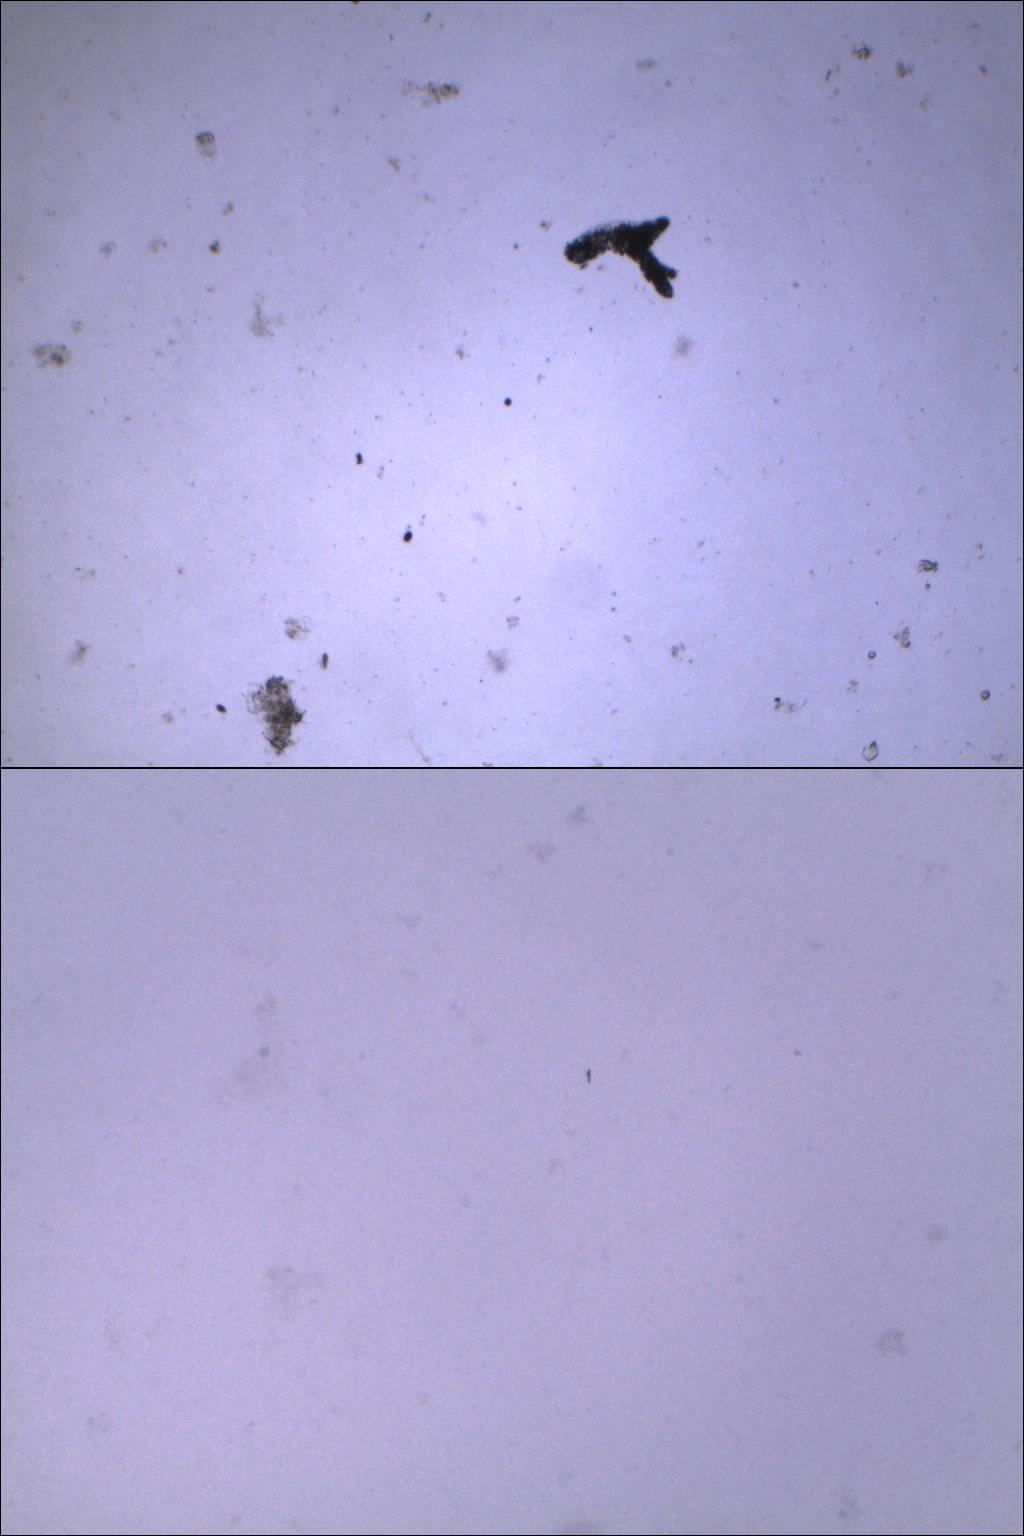N.Fowleri Amoeba: (197, 983, 327, 1162)
Proteus Amoeba: (545, 200, 697, 318)
